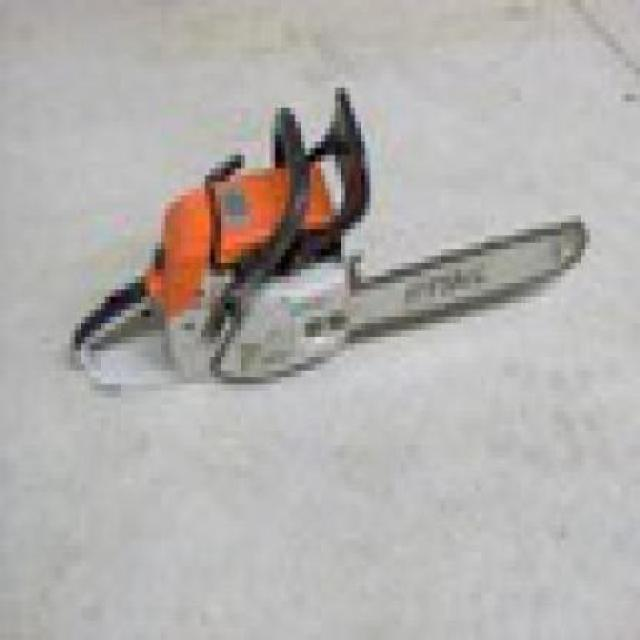Chainsaw: (72, 83, 588, 399)
